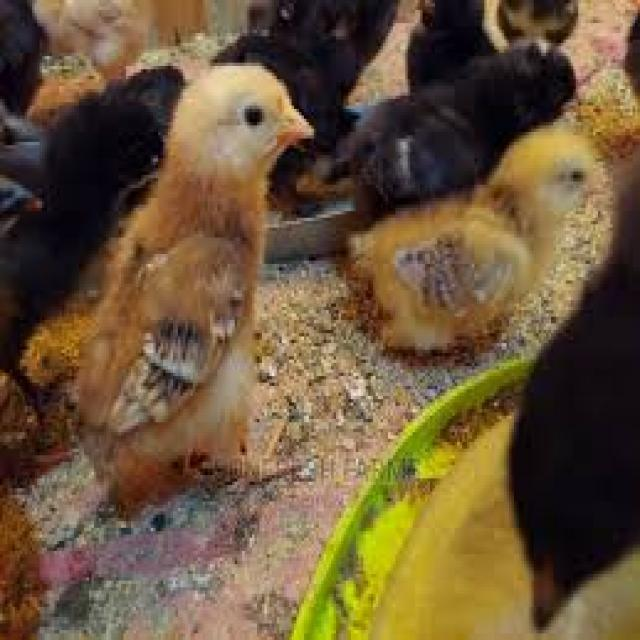poussin: (44, 60, 316, 515), (358, 121, 610, 348), (502, 248, 640, 640), (0, 57, 180, 326), (348, 44, 580, 210), (230, 0, 399, 130)
